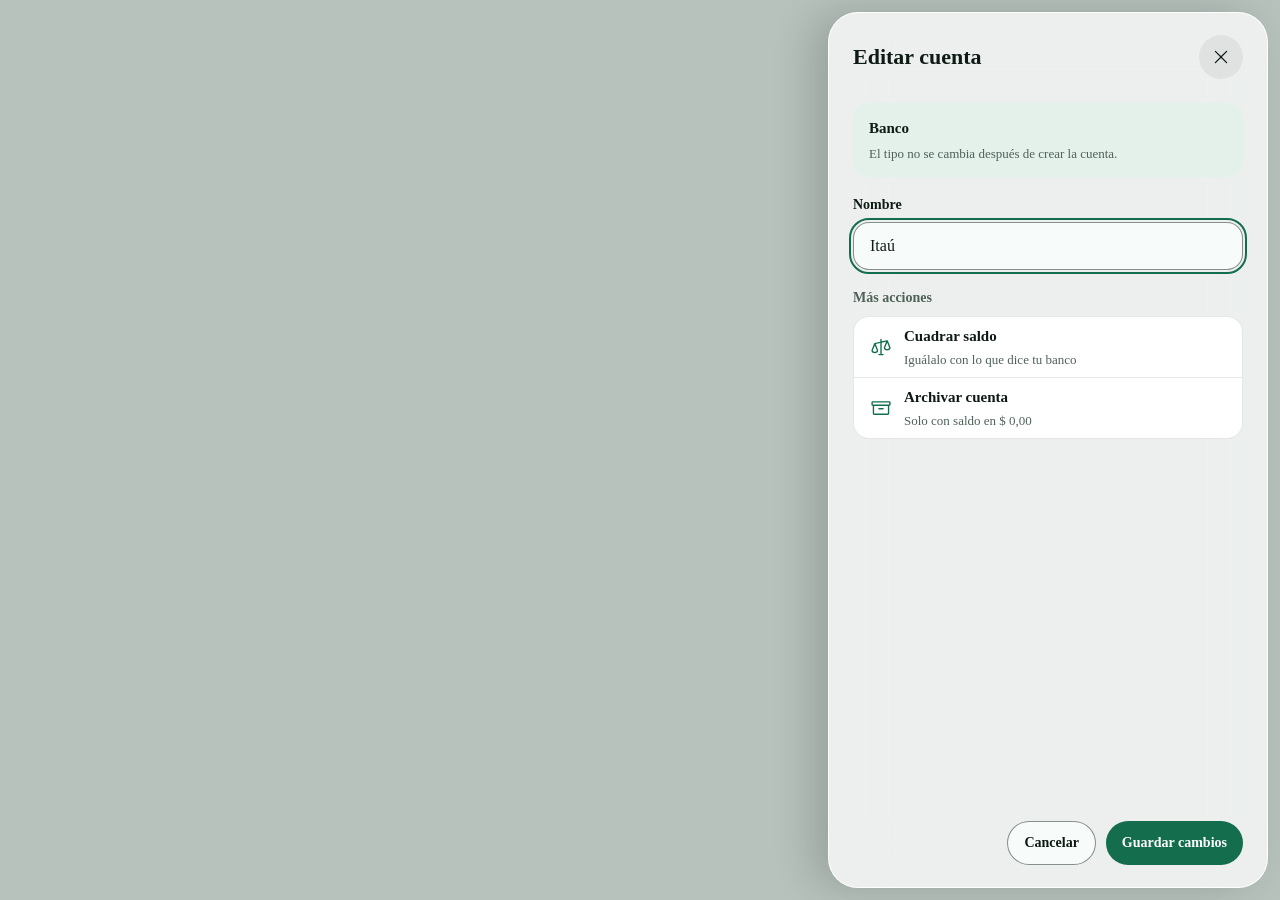
Test: AccountEditPanel › opens Cuadrar saldo from Editar with 'Volver', and Volver goes back to the form
This screenshot has width=1280, height=900.
Expected: the field labelled "Nombre" is shown, [853,222,1243,270]
Click the button "Cuadrar saldo Iguálalo con lo que dice tu banco" at x=950, y=336, box [854,317,1242,377]
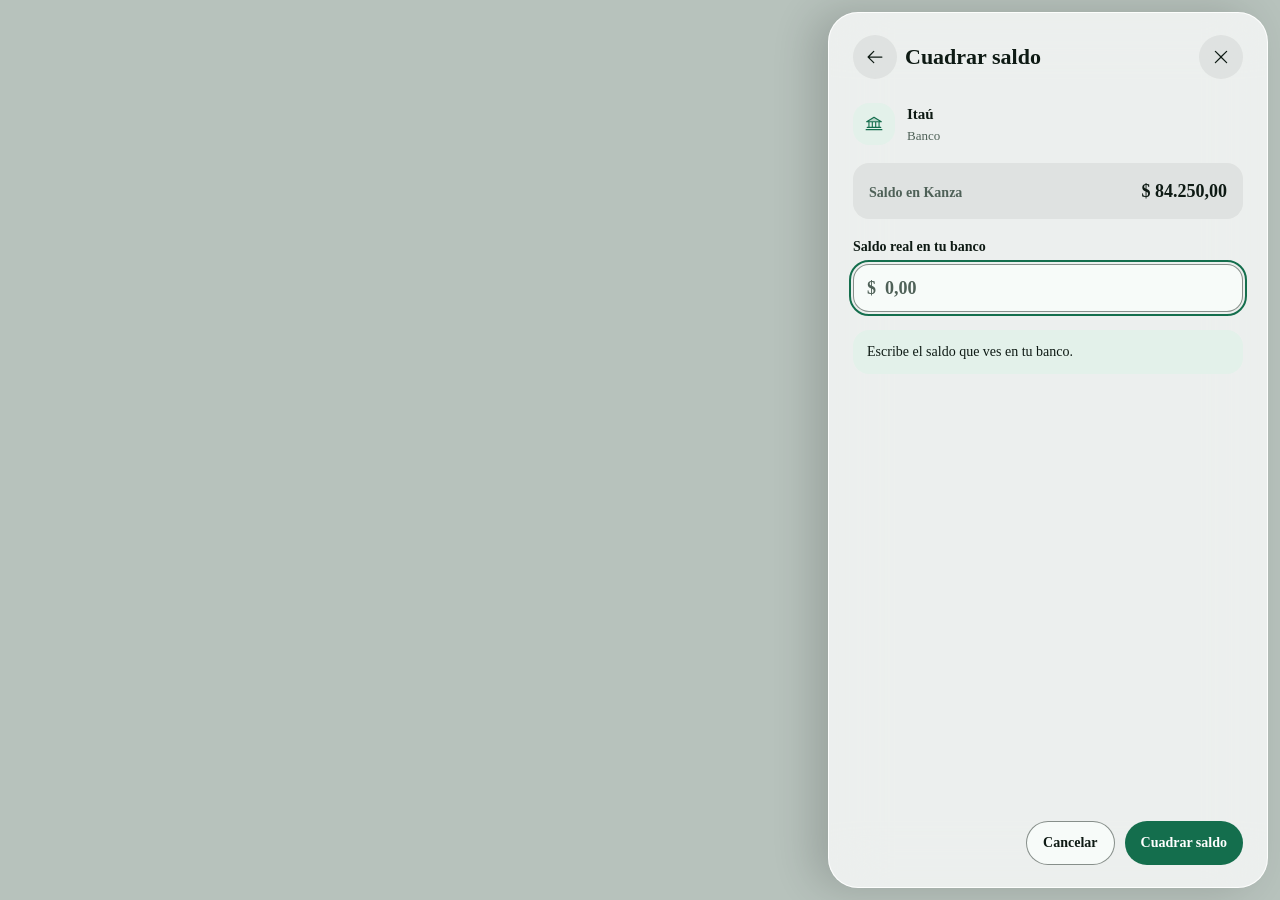
Now the field labelled "Saldo real en tu banco" is shown, box [853,264,1243,312]
Click the button named "Volver" at x=875, y=57, box [853,35,897,79]
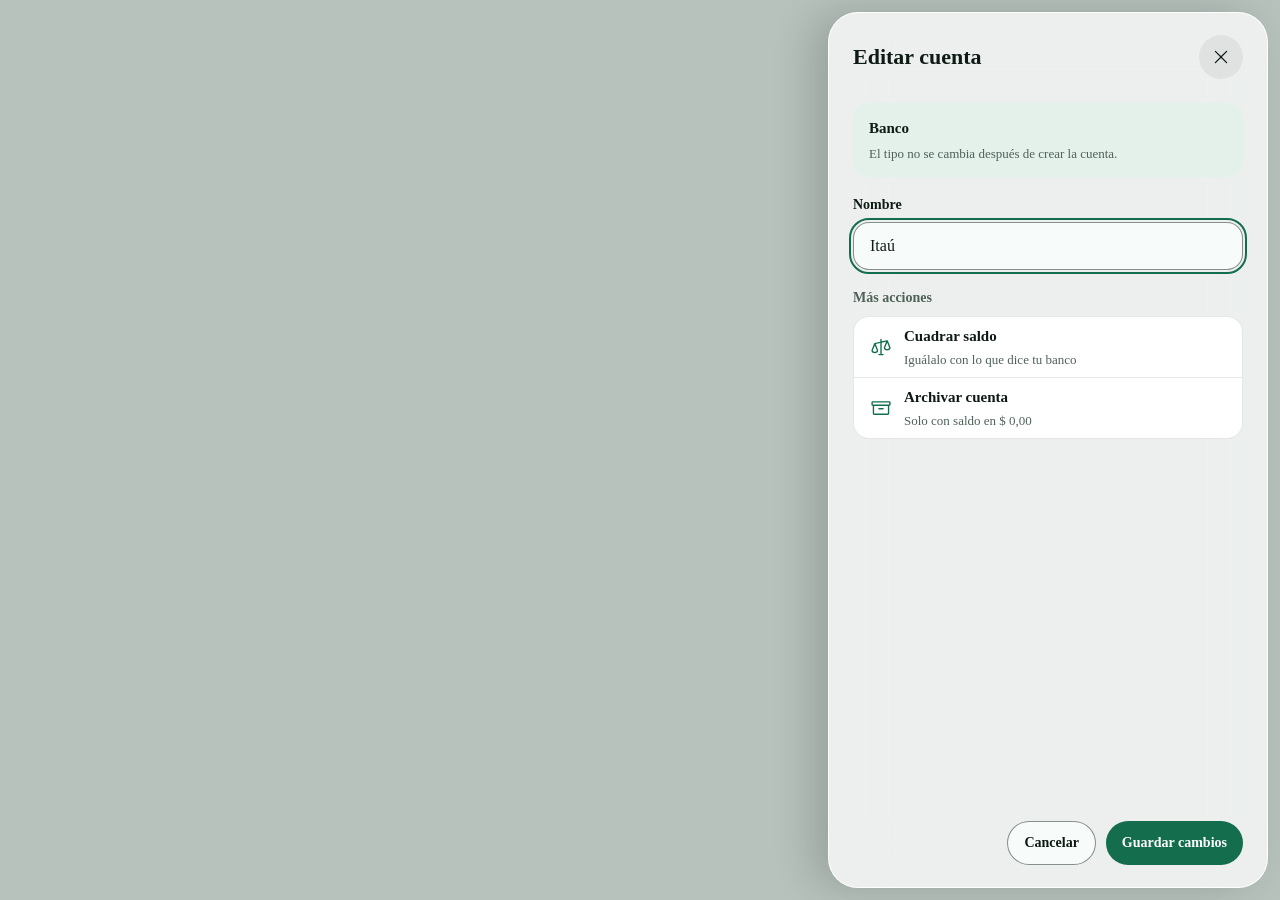
Now the field labelled "Nombre" is shown, box [853,222,1243,270]
Now the button "Volver" is gone
